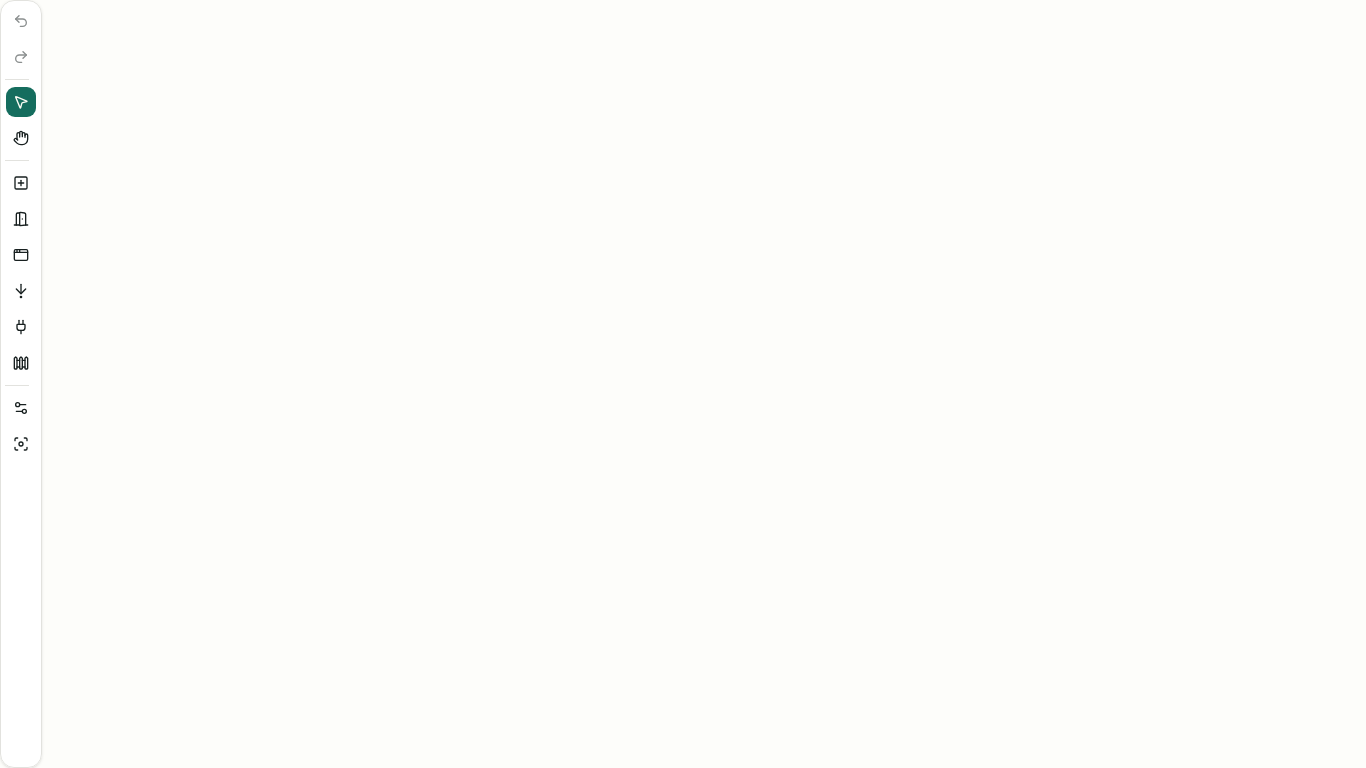
Test: EditorToolbar capability gating (roadmap §21) — palette Eksterior › hanya grup elemen + template yang muncul saat exterior_elements_v1 on & roof_zones_v1 off
Click the button named "Eksterior" at coordinates (21, 363), box [5, 347, 37, 379]
(page scrolled)
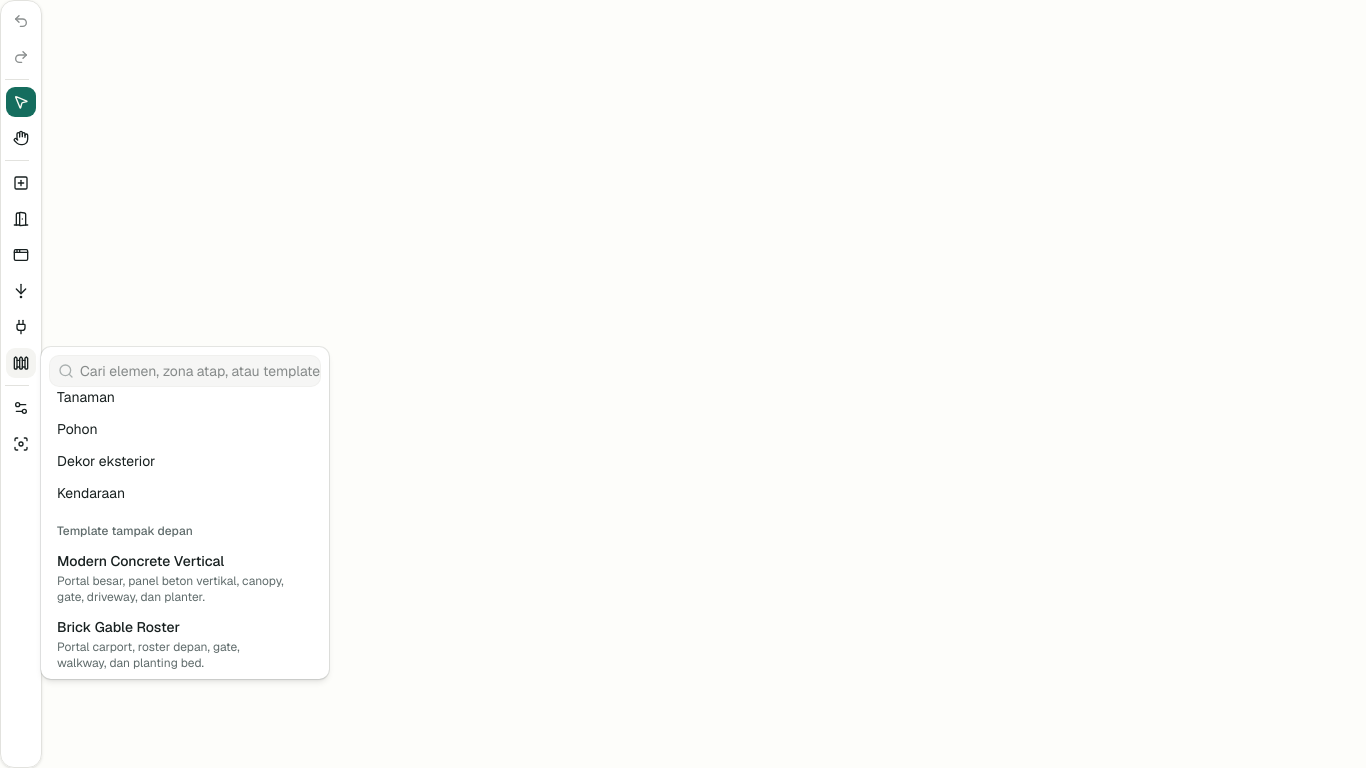
Expected: the text "Template tampak depan" is shown, [57, 523, 193, 539]
